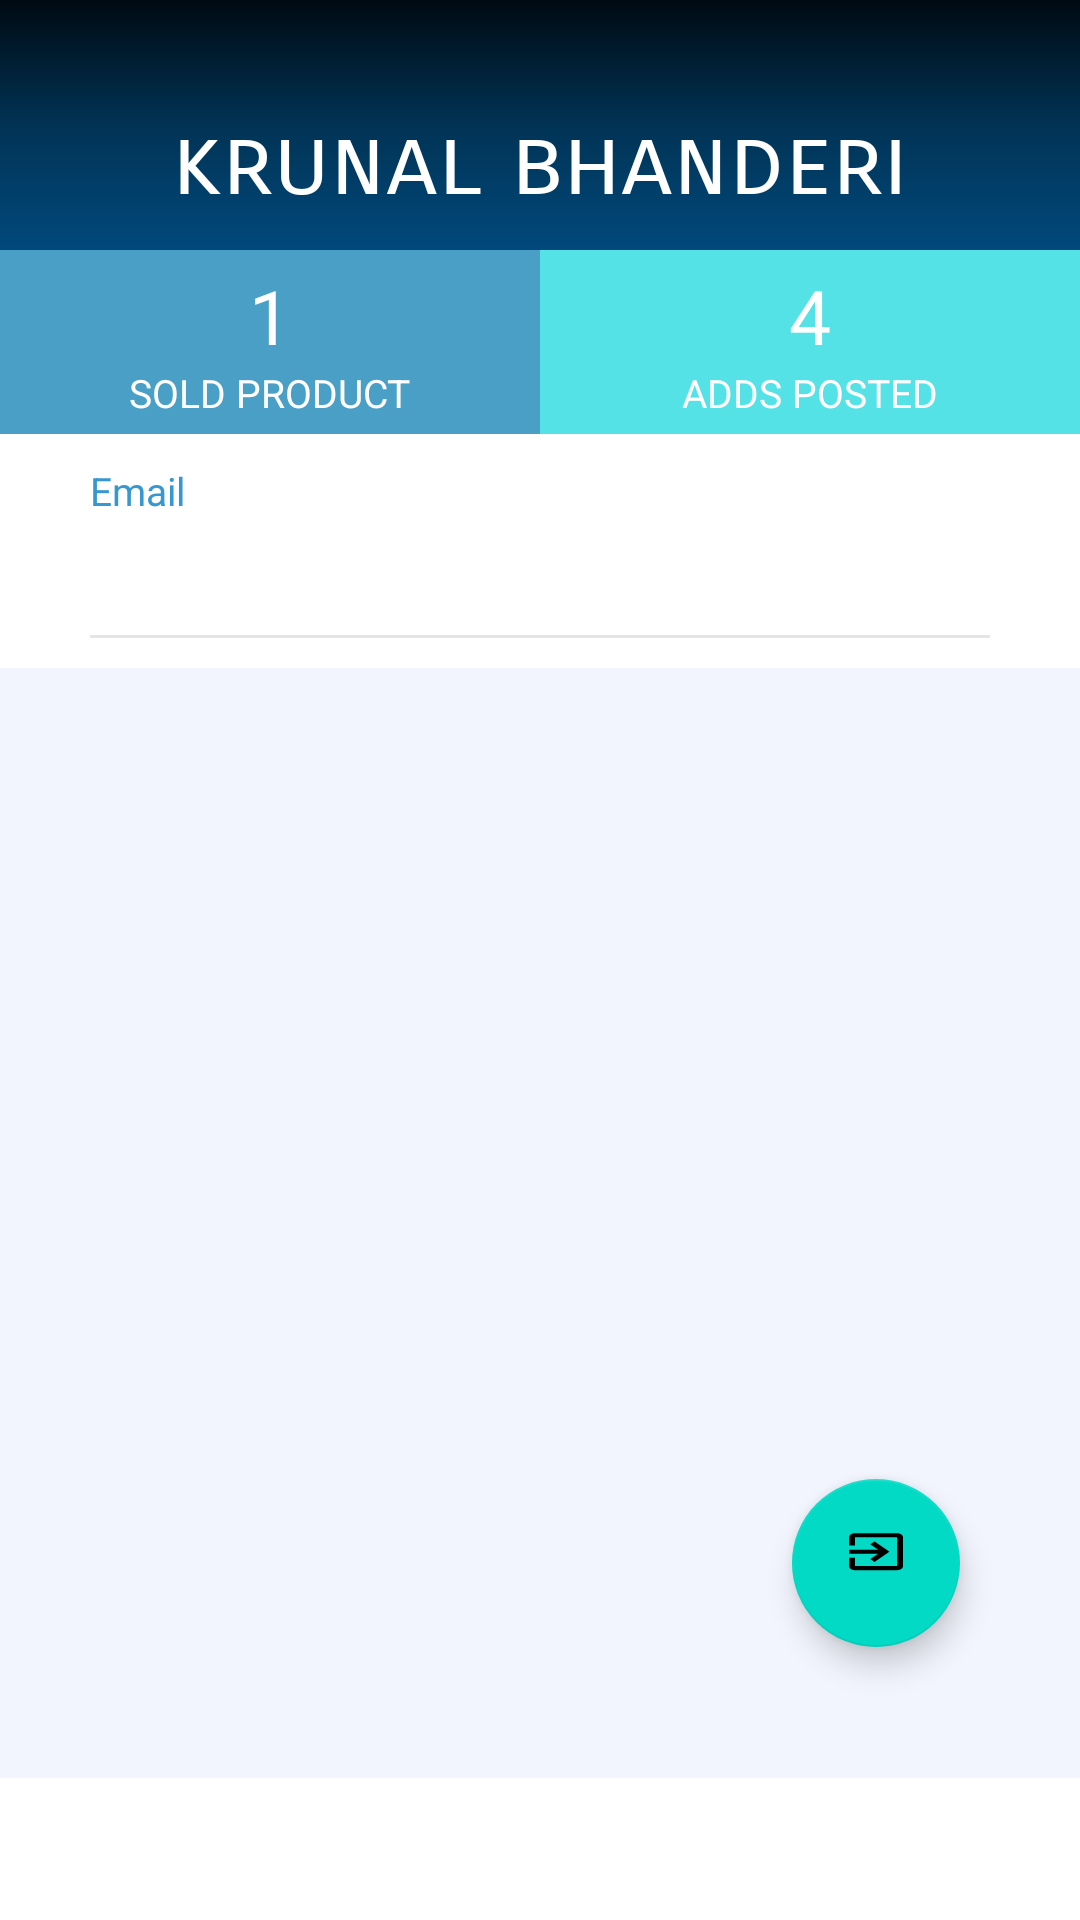

Named icons in this screenshot (1080w x 1920h) and their centers, [x,y]:
exit to app: [876,1563]
